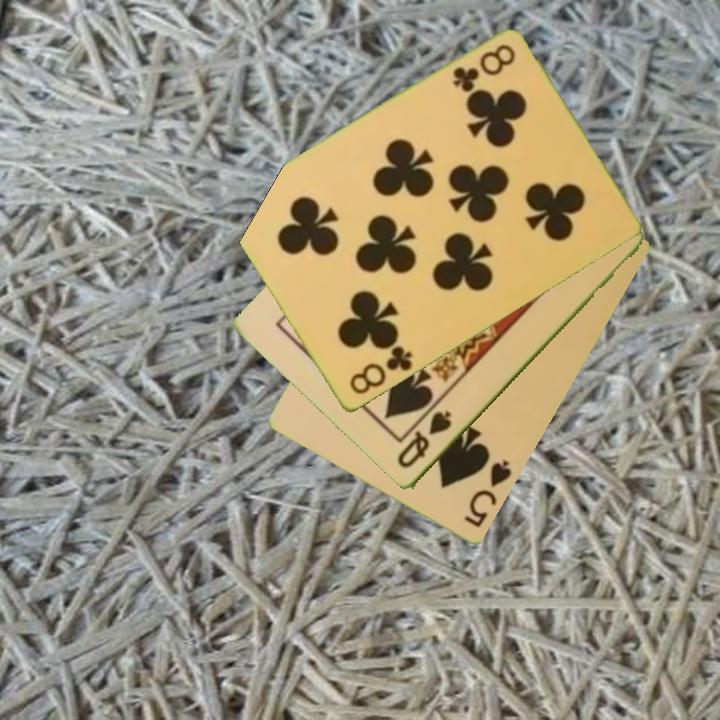5s: (460, 457, 515, 531)
8c: (345, 342, 416, 399), (449, 41, 519, 96)
Qs: (393, 407, 455, 472)
